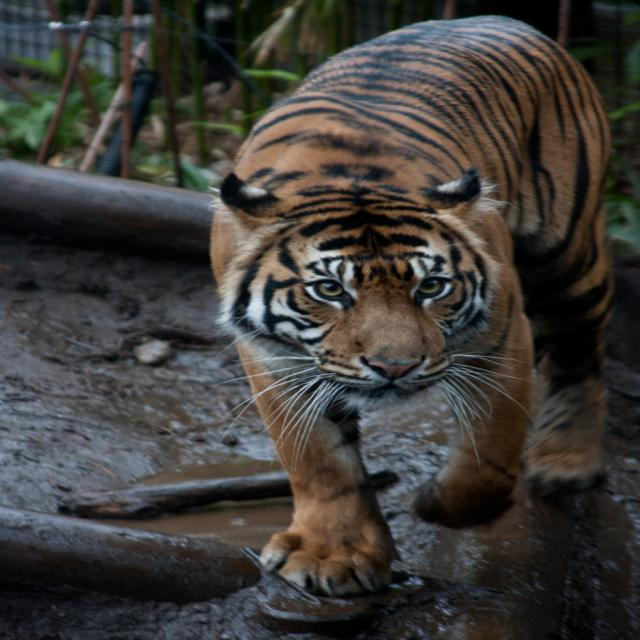Tiger: (209, 12, 611, 598)
